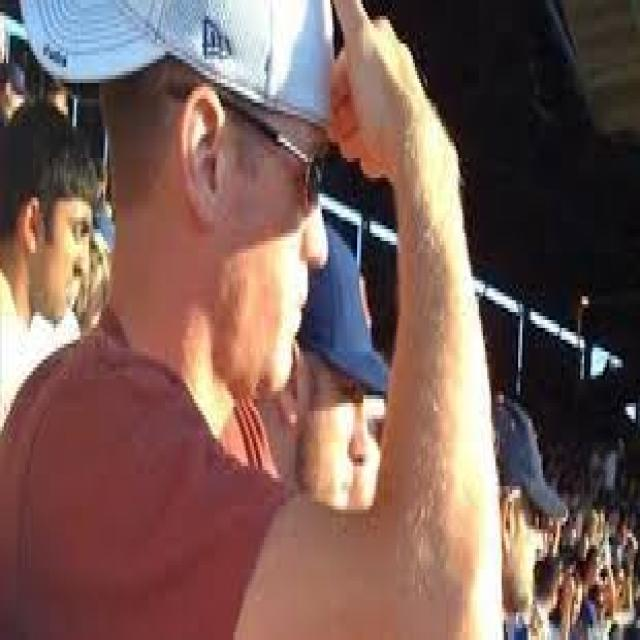cap: (16, 0, 345, 277), (302, 222, 402, 446), (487, 383, 576, 541)
